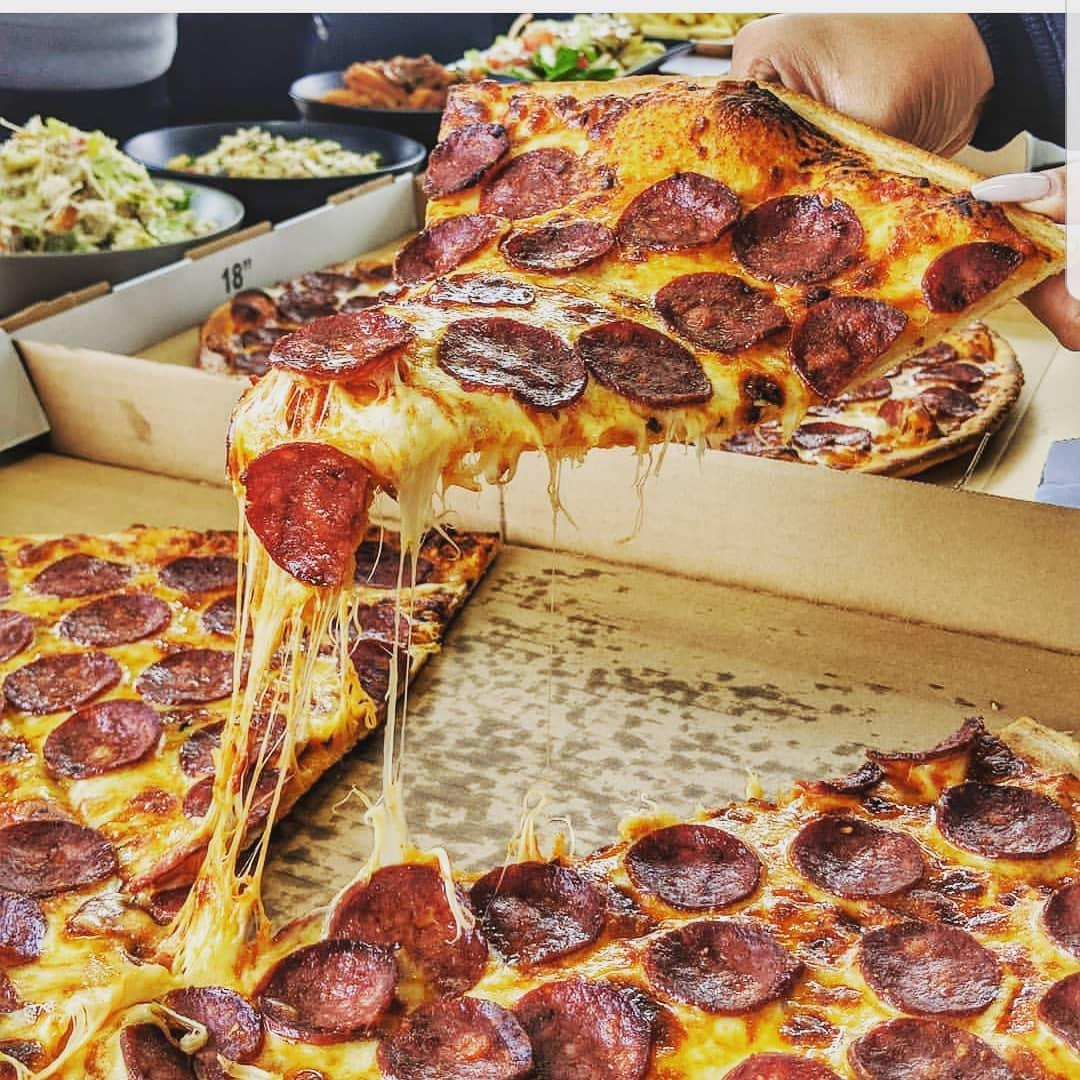Pepperoni: (231, 445, 392, 589), (321, 868, 494, 1001), (510, 982, 655, 1080), (471, 861, 608, 961), (638, 923, 801, 1006), (860, 921, 1003, 1013), (259, 942, 394, 1039), (123, 988, 261, 1080), (440, 318, 585, 405), (789, 298, 911, 398), (624, 825, 762, 913), (377, 1005, 531, 1080), (733, 194, 862, 280), (852, 1014, 1019, 1080), (654, 272, 787, 354), (793, 815, 924, 897), (937, 785, 1075, 859), (573, 332, 713, 403), (272, 309, 416, 376), (615, 174, 743, 248), (2, 820, 118, 894), (52, 699, 159, 772), (924, 244, 1024, 316), (4, 653, 118, 712), (397, 216, 494, 279), (64, 591, 173, 646), (422, 127, 508, 196), (142, 646, 245, 701), (507, 222, 610, 267), (328, 601, 412, 655), (33, 555, 128, 598), (163, 551, 243, 595), (721, 1052, 840, 1080), (1036, 973, 1080, 1047), (1038, 881, 1080, 958), (206, 593, 271, 637), (430, 285, 533, 304), (1, 607, 35, 660)
Pizza: (0, 718, 1080, 1080), (238, 83, 1058, 492), (2, 537, 498, 1080)
